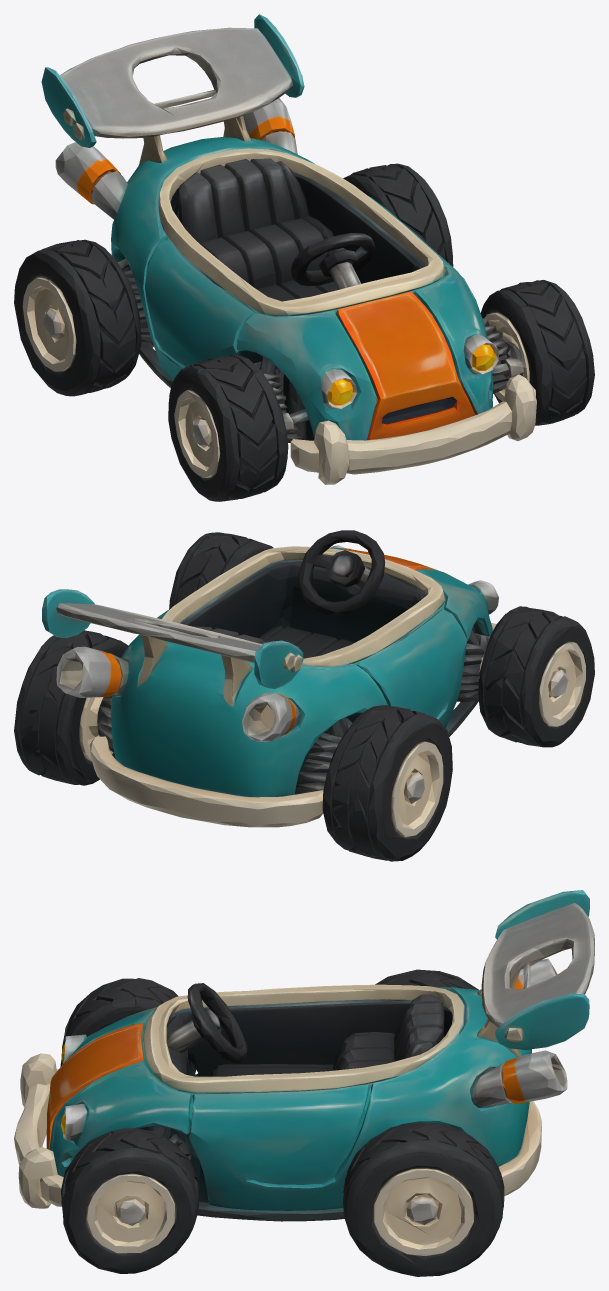
File: tin-panda-kart-raw.glb
3 renders of one model, top to bottom at view 1: azimuth 30°, elevation 25°; view 2: azimuth 150°, elevation 25°; view 3: azimuth 270°, elevation 25°, orthographic.
Parts seen in each view (by area): view 1: model; view 2: model; view 3: model.
Part boxes in pixels (x1=…): model: x1=14, y1=14, x2=594, y2=501; model: x1=14, y1=530, x2=594, y2=861; model: x1=14, y1=890, x2=594, y2=1276.
Bounding box in the file's own units: 1.4 × 0.8989 × 1.9.
Materials: 1 (1 with a texture image).
